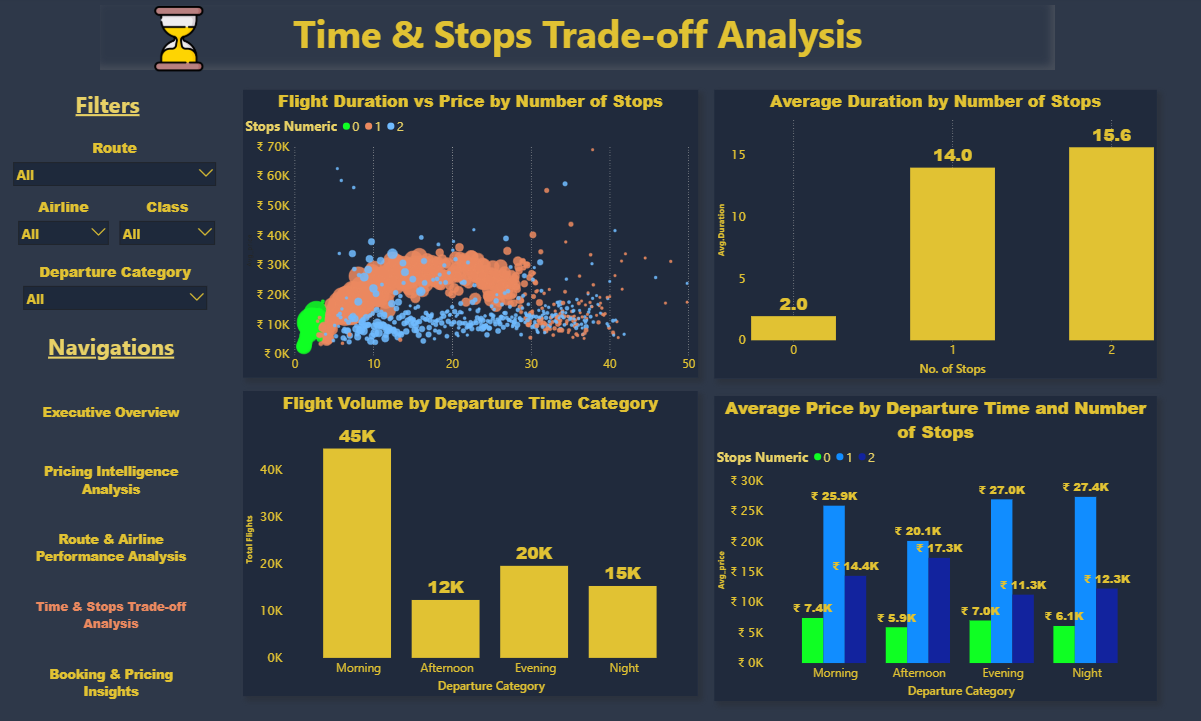

What the dashboard file says about the page in this screenshot:
{"tool":"powerbi","page":{"name":"Time & Stops Trade-off Analysis","canvas":[2300,1400],"ordinal":3},"visuals":[{"type":"textbox","box":[195.1,17.1,1822,124.4],"z":0},{"type":"clusteredColumnChart","title":"Average Duration by Number of Stops","fields":{"Category":["Airline.Stops Numeric"],"Y":["Airline.Avg.Duration"]},"box":[1366.7,179.3,844.5,550.8],"z":1000},{"type":"image","box":[194.9,18.2,298.8,124.7],"z":2000},{"type":"shape","box":[18.1,171.8,406.9,488.3],"z":3000},{"type":"slicer","title":"Airline","fields":{"Values":["Airline.airline"]},"box":[29.2,382.6,192.5,109.7],"z":4000},{"type":"slicer","title":"Route","fields":{"Values":["Airline.Route"]},"box":[19.5,270.5,407,131.6],"z":5000},{"type":"slicer","title":"Class","fields":{"Values":["Airline.class"]},"box":[221.8,382.6,202.3,109.7],"z":6000},{"type":"slicer","title":"Departure Category","fields":{"Values":["Airline.Departure Category"]},"box":[39,506.9,370.4,129.2],"z":7000},{"type":"textbox","box":[143.2,171.8,150.3,76.3],"z":8000},{"type":"textbox","box":[76.3,634.6,279.1,83.5],"z":9000},{"type":"scatterChart","title":"Flight Duration vs Price by Number of Stops","fields":{"Size":["Airline.Total Flights"],"Y":["Airline.Avg_price"],"X":["Airline.duration"],"Series":["Airline.Stops Numeric"]},"box":[466.6,178.9,868.5,549.6],"z":10000},{"type":"clusteredColumnChart","title":"Flight Volume by Departure Time Category","fields":{"Category":["Departure_Sort_Table.Departure Category"],"Y":["Airline.Total Flights"]},"box":[467.7,753.5,867.8,582],"z":11000},{"type":"clusteredColumnChart","title":"Average Price by Departure Time and Number of Stops","fields":{"Category":["Departure_Sort_Table.Departure Category"],"Y":["Airline.Avg_price"],"Series":["Airline.Stops Numeric"]},"box":[1366.7,763.9,844.5,582],"z":12000},{"type":"pageNavigator","box":[39.2,735.5,355.7,639.1],"z":13000}]}

Visuals, with their boxes in screenshot pixels (x1, y1, x2, y2), scaled from the page's 2300x1400 canvas onto the 1201x721 screenshot:
textbox: 102, 9, 1053, 73
"Average Duration by Number of Stops" clusteredColumnChart: 714, 92, 1155, 376
image: 102, 9, 258, 74
shape: 9, 88, 222, 340
"Airline" slicer: 15, 197, 116, 254
"Route" slicer: 10, 139, 223, 207
"Class" slicer: 116, 197, 221, 254
"Departure Category" slicer: 20, 261, 214, 328
textbox: 75, 88, 153, 128
textbox: 40, 327, 186, 370
"Flight Duration vs Price by Number of Stops" scatterChart: 244, 92, 697, 375
"Flight Volume by Departure Time Category" clusteredColumnChart: 244, 388, 697, 688
"Average Price by Departure Time and Number of Stops" clusteredColumnChart: 714, 393, 1155, 693
pageNavigator: 20, 379, 206, 708
